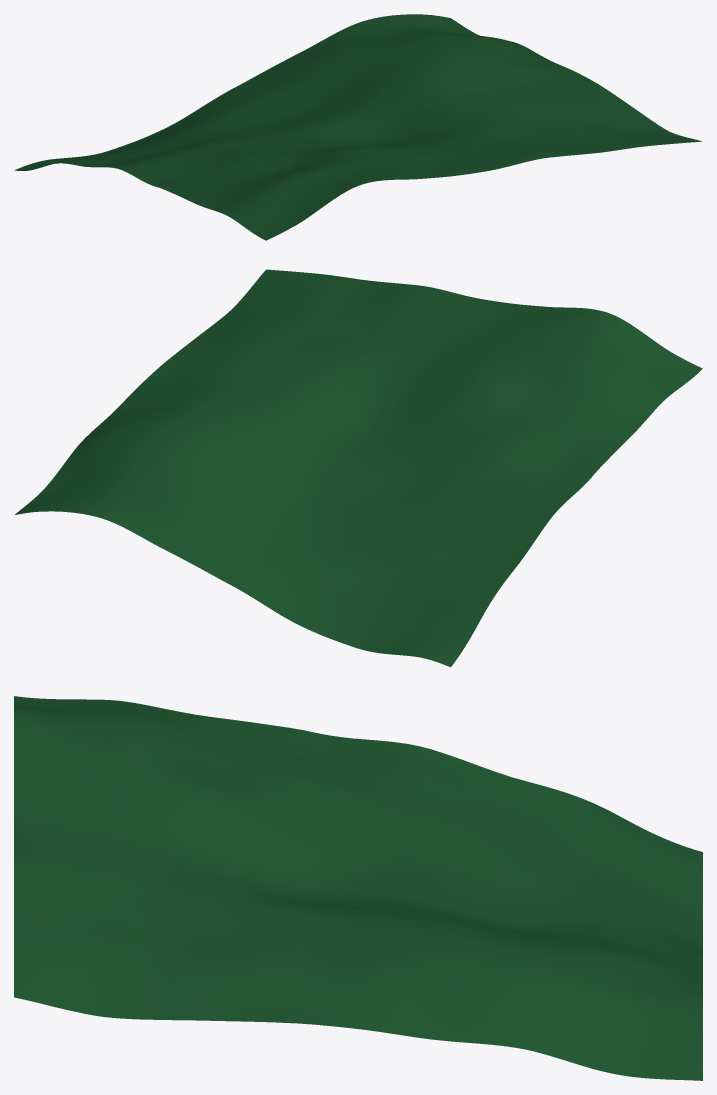
The model's file is payo_land_x0_ym3_lod1.glb.
3 renders of one model, top to bottom at view 1: azimuth 30°, elevation 25°; view 2: azimuth 150°, elevation 25°; view 3: azimuth 270°, elevation 25°, orthographic. The views are drawn at different scales.
Parts seen in each view (by area): view 1: payo_land_x0_ym3; view 2: payo_land_x0_ym3; view 3: payo_land_x0_ym3.
Part boxes in pixels (box(x1,y1,x2,y2)): payo_land_x0_ym3: box(14, 14, 702, 240); payo_land_x0_ym3: box(14, 269, 702, 667); payo_land_x0_ym3: box(14, 696, 702, 1080).
Bounding box in the file's own units: 255 × 84.33 × 255.
